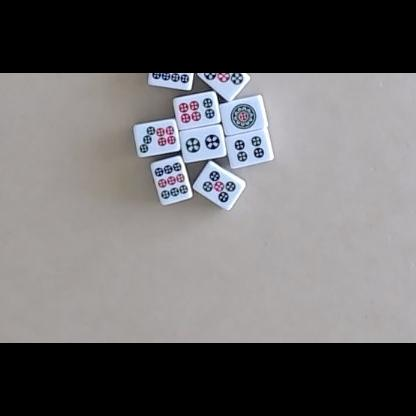1p: (230, 103, 257, 129)
2p: (185, 134, 221, 153)
3p: (203, 73, 243, 85)
4p: (234, 136, 265, 163)
5p: (202, 169, 236, 203)
6p: (179, 98, 215, 124)
7p: (140, 125, 177, 154)
8p: (151, 73, 190, 83)
9p: (154, 162, 189, 200)
